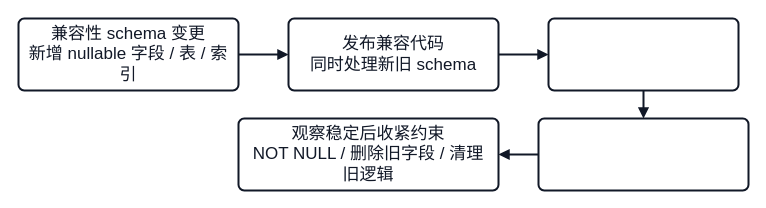
The diagram is 766 pixels wide and 208 high, and some of its shapes have lost their labels. Each missing label, with the centre of its shape:
"分批回填数据 避免大事务" goes at point 643,54.
"前端入口 / Feature Flag 灰度开放" goes at point 643,154.
